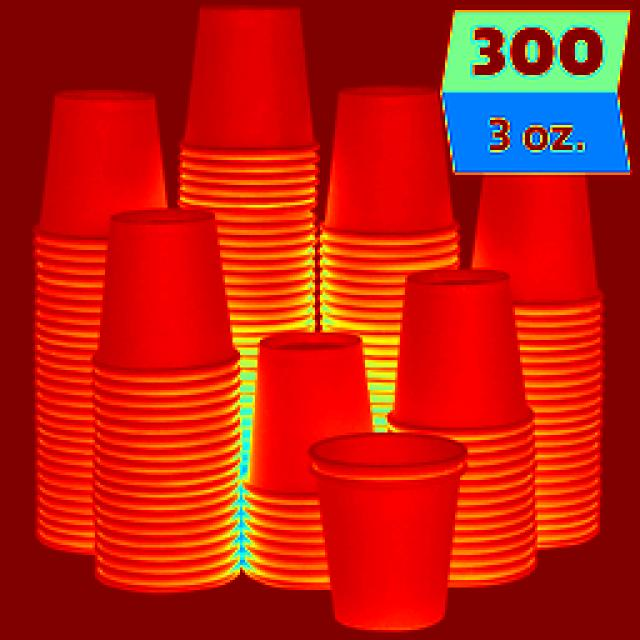Paper Cups: (33, 83, 133, 558), (116, 205, 235, 585), (192, 15, 326, 314), (393, 263, 524, 490), (322, 81, 458, 288), (314, 443, 456, 615), (255, 328, 364, 512)
